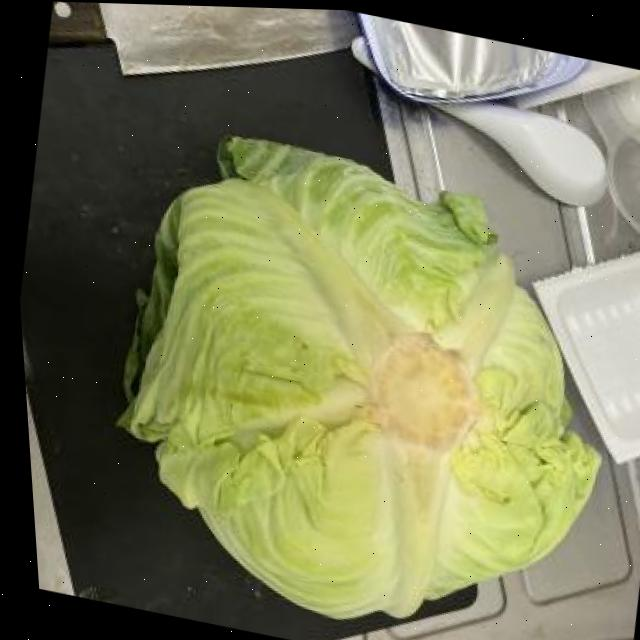Wet: (56, 104, 640, 640)
